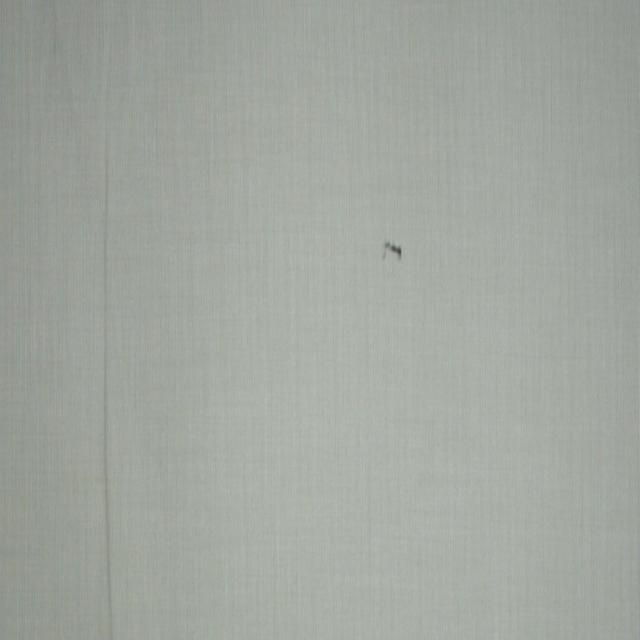dirty: (383, 243, 402, 262)
